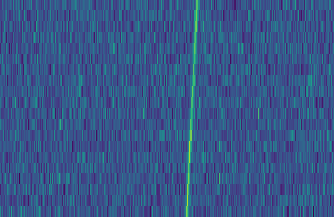signal: (182, 0, 202, 217)
